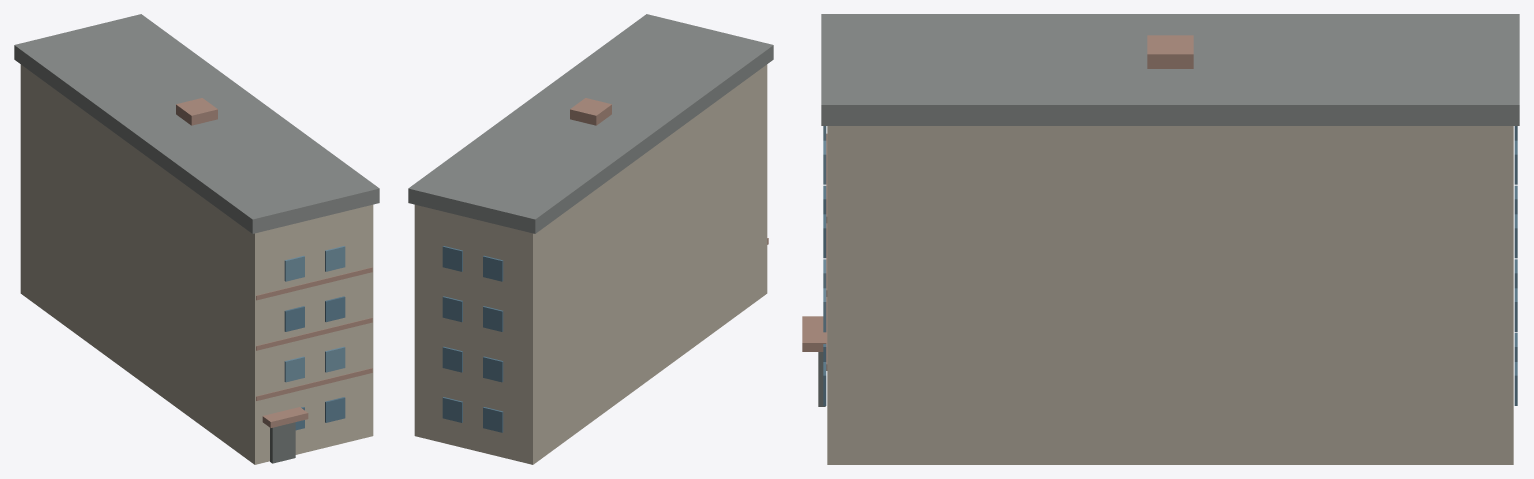
The model's file is house_1x3.glb.
3 views of the same model, side by side, from view 1: azimuth 30°, elevation 25°; view 2: azimuth 150°, elevation 25°; view 3: azimuth 270°, elevation 25° (orthographic). The views are drawn at different scales.
Visible parts, largest first — view 1: house_1x3; view 2: house_1x3; view 3: house_1x3.
Part boxes in pixels (x1,y1,x2,y2): house_1x3: (14,14,379,464); house_1x3: (408,14,773,464); house_1x3: (802,14,1519,464).
Size of the model in its own units: 1.74 by 3.38 by 5.82.
